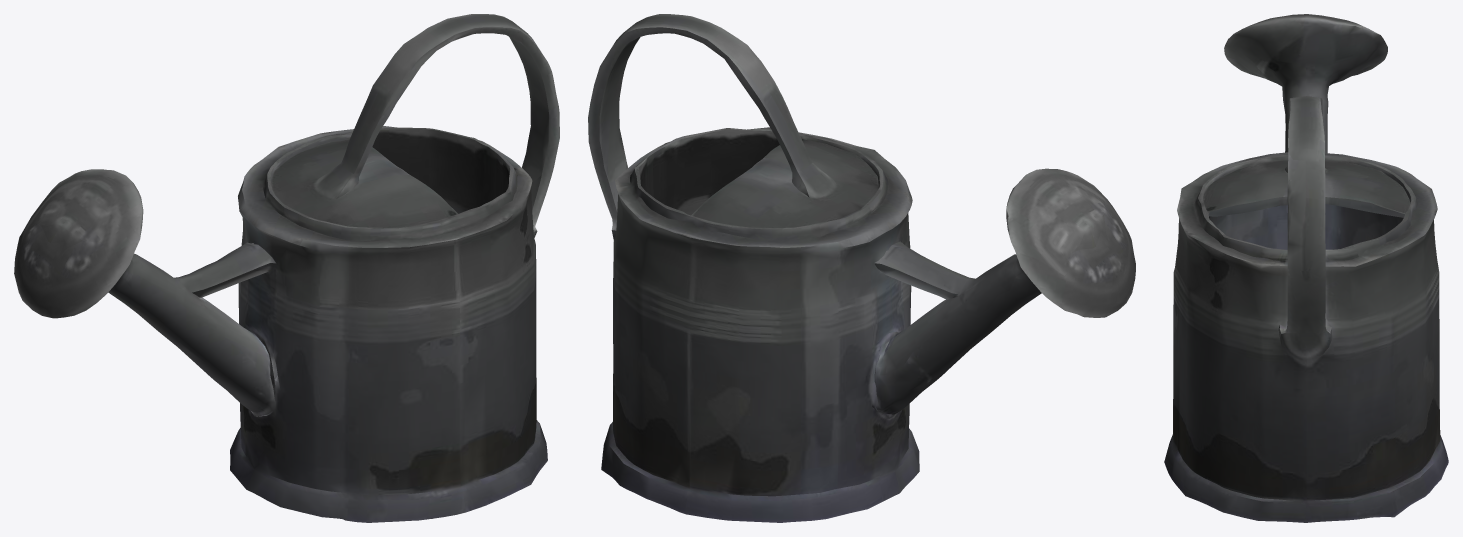
Rendered from WateringCan.glb.
3 renders of one model, left to right at view 1: azimuth 30°, elevation 25°; view 2: azimuth 150°, elevation 25°; view 3: azimuth 270°, elevation 25°, orthographic. The views are drawn at different scales.
Visible parts, largest first — view 1: WateringCan; view 2: WateringCan; view 3: WateringCan.
Part boxes in pixels (left/top/right/bottom): WateringCan: left=14, top=14, right=559, bottom=522; WateringCan: left=588, top=14, right=1135, bottom=522; WateringCan: left=1164, top=14, right=1448, bottom=522.
Bounding box in the file's own units: 0.6493 × 0.504 × 0.3282.
1 material, 1 textured.
